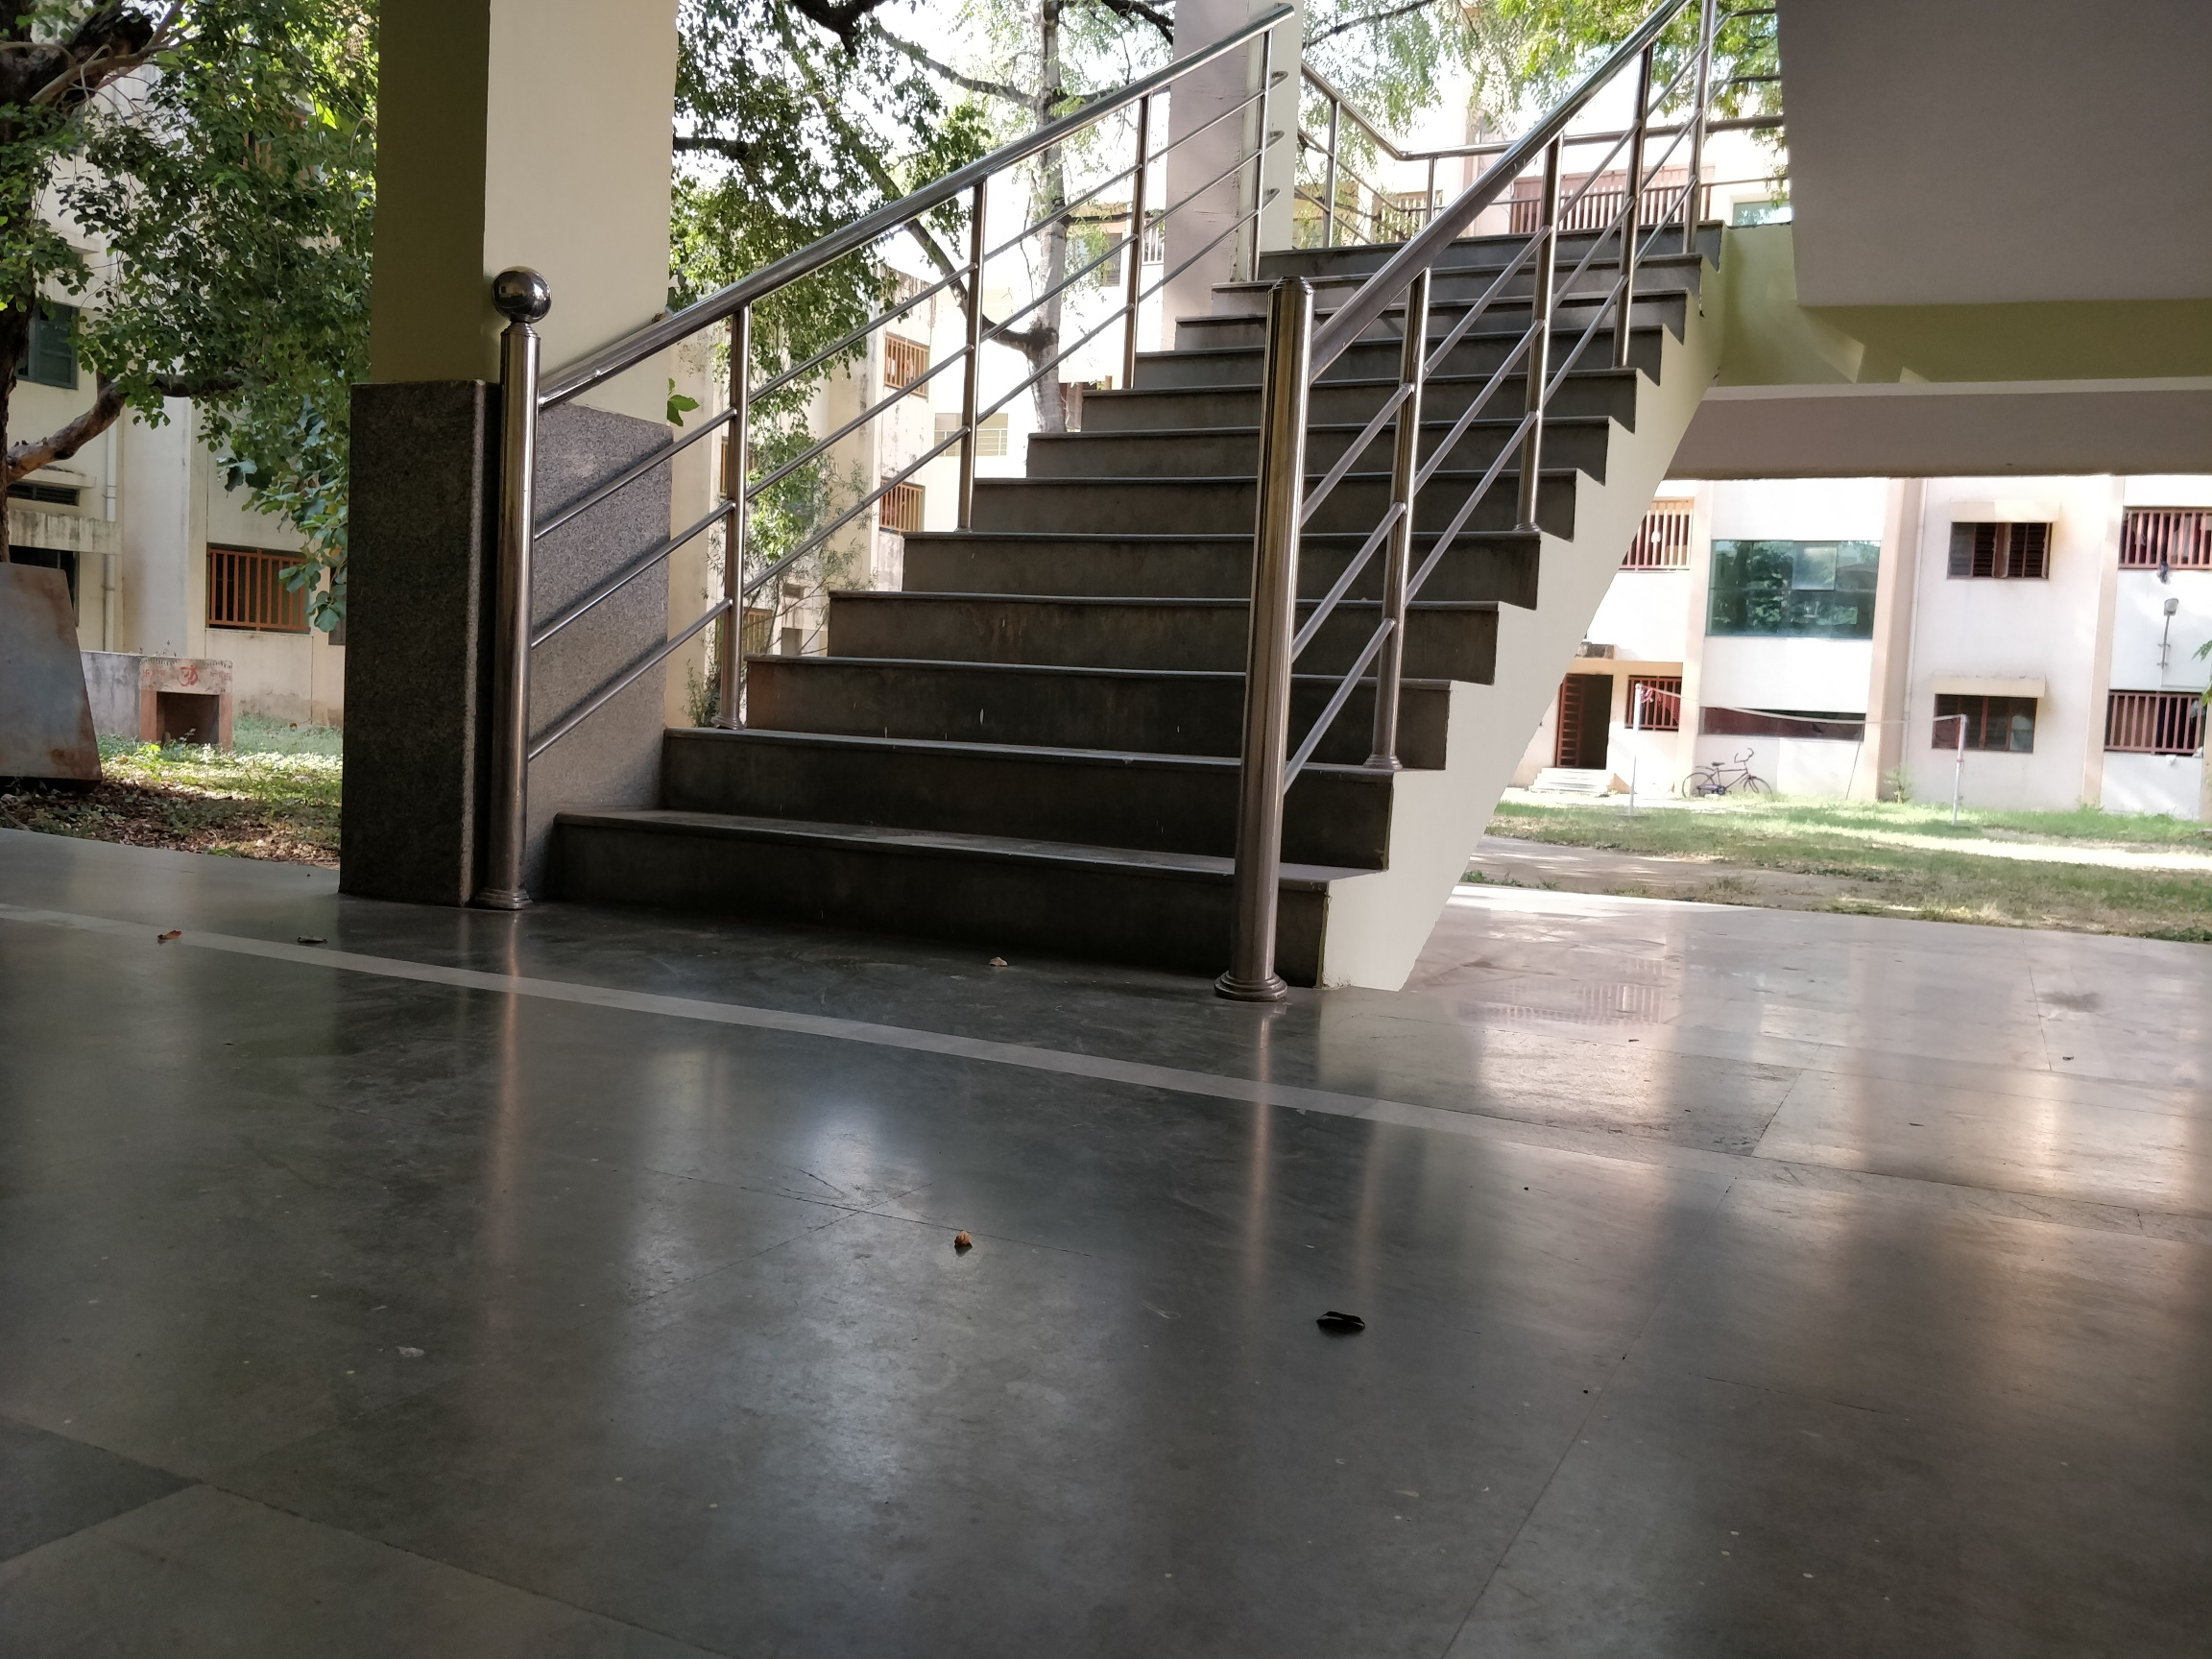stairs_up: (531, 204, 1740, 988)
